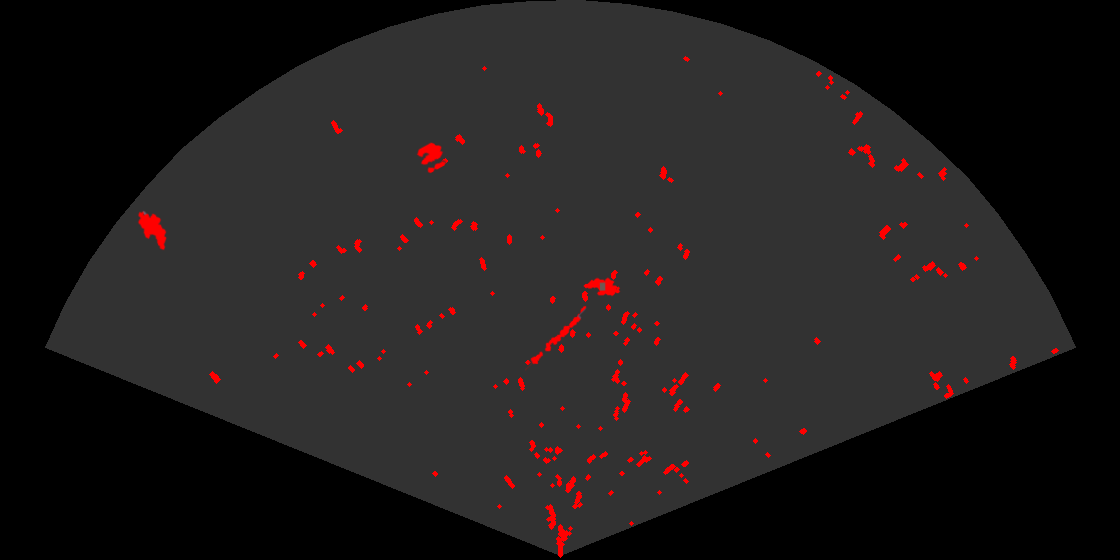AUV: (136, 210, 168, 252), (582, 276, 622, 298)
ball: (415, 141, 447, 175)
chain: (525, 304, 588, 372)
